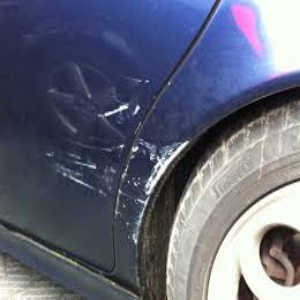bumper_scratch: (30, 54, 190, 249)
